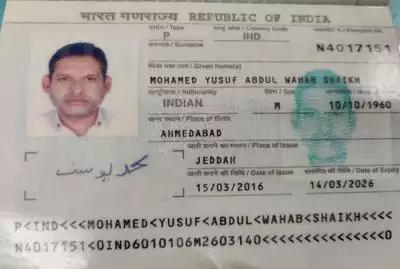DOB: (310, 95, 400, 113)
country_code: (233, 27, 270, 45)
date_of_expiry: (308, 176, 397, 197)
date_of_issue: (186, 177, 274, 201)
details: (3, 208, 397, 263)
name: (148, 68, 369, 88)
nationality: (151, 94, 222, 112)
passport_no: (306, 39, 396, 62)
photo: (27, 24, 133, 135)
place_of_birth: (155, 124, 237, 143)
place_of_issue: (184, 148, 282, 172)
sex: (263, 98, 302, 113)
sign: (38, 149, 160, 193)
type: (148, 27, 182, 42)
